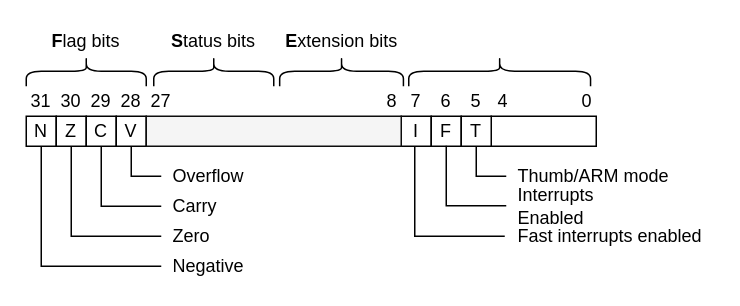
This 740x306 diagram has some shape labels left out. The centre of each missing label's shape, as x and y in pixels:
"C ontrol bits" belongs at (499,70).
"CPU mode" belongs at (543,130).
"Reserved" belongs at (273,130).
